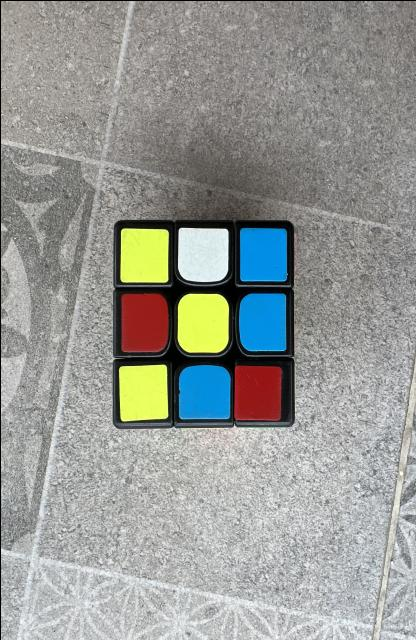Blue: (178, 364, 230, 419), (238, 292, 285, 350), (239, 226, 286, 280)
Red: (120, 292, 168, 351), (234, 365, 281, 420)
White: (177, 226, 228, 281)
Yellow: (177, 292, 229, 352), (118, 364, 167, 421), (119, 228, 168, 282)
